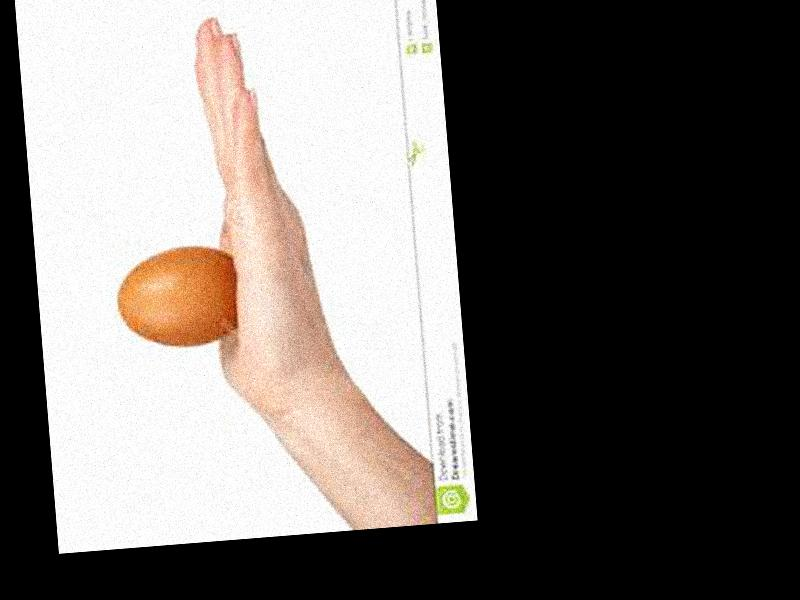Eggs: (114, 242, 244, 349)
